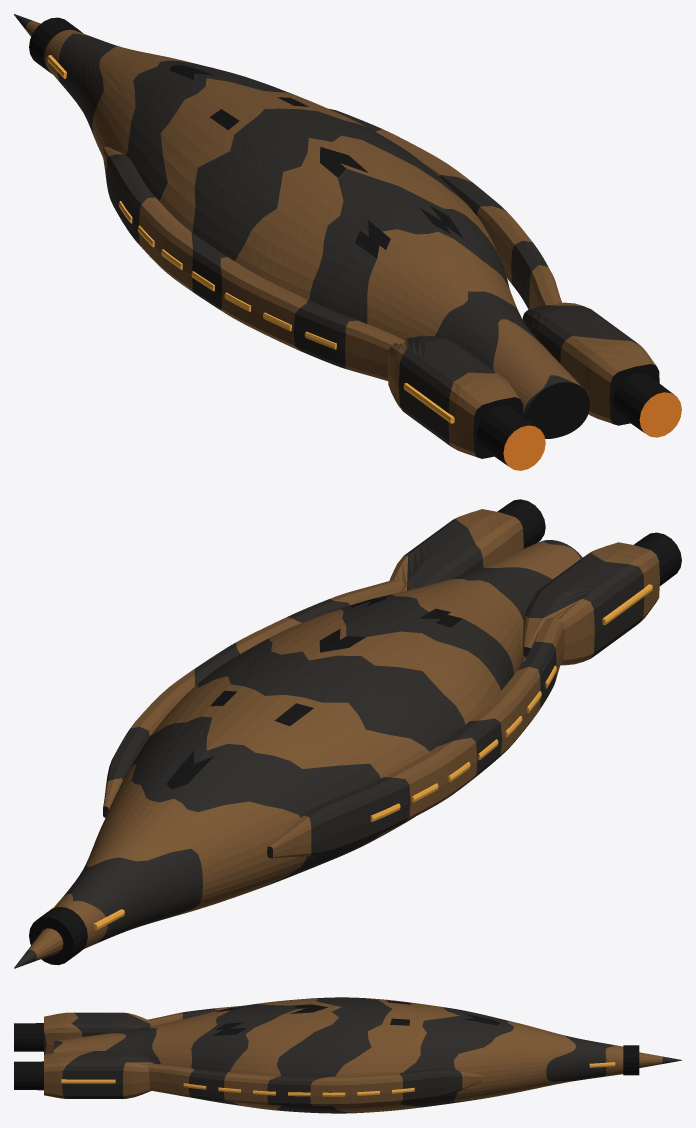
Rendered from frigate.obj.
3 renders of one model, top to bottom at view 1: azimuth 30°, elevation 25°; view 2: azimuth 150°, elevation 25°; view 3: azimuth 270°, elevation 25°, orthographic. The views are drawn at different scales.
Visible parts, largest first — view 1: hull, rail.port, pod.port, pod.starboard, rail.starboard, nozzle.starboard, nozzle.port, collar; view 2: hull, rail.port, pod.port, pod.starboard, rail.starboard, collar, nozzle.port, nozzle.starboard, needle; view 3: hull, rail.starboard, pod.starboard, pod.port, nozzle.starboard, nozzle.port, collar, rail.port, needle, light.pod.starboard.
Part boxes in pixels (x1,y1,x2,y2): hull: (45, 29, 589, 438); rail.port: (103, 147, 404, 380); pod.port: (387, 336, 523, 458); pod.starboard: (522, 302, 659, 425); rail.starboard: (328, 108, 561, 309); nozzle.starboard: (613, 372, 681, 437); nozzle.port: (477, 406, 545, 470); collar: (29, 17, 82, 74); hull: (54, 540, 582, 948); rail.port: (267, 616, 564, 858); pod.port: (522, 542, 659, 665); pod.starboard: (389, 509, 523, 592); rail.starboard: (103, 580, 404, 817); collar: (29, 906, 87, 965); nozzle.port: (634, 532, 681, 585); nozzle.starboard: (497, 499, 545, 548); needle: (14, 928, 63, 968); hull: (54, 997, 623, 1113); rail.starboard: (146, 1063, 481, 1105); pod.starboard: (44, 1051, 156, 1098); pod.port: (44, 1012, 153, 1054); nozzle.starboard: (14, 1061, 43, 1090); nozzle.port: (14, 1023, 43, 1051); collar: (623, 1045, 639, 1075); rail.port: (145, 1005, 242, 1025); needle: (639, 1052, 681, 1067); light.pod.starboard: (61, 1079, 115, 1083).
Size of the model in its own units: 0.29 by 0.15 by 1.
